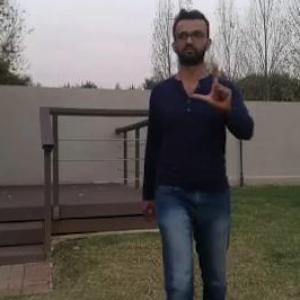land_hand: (192, 56, 234, 112)
